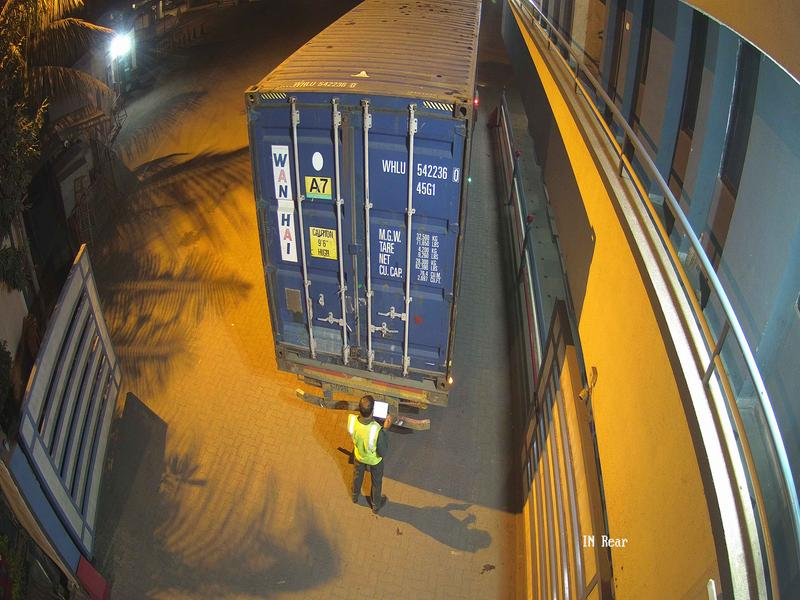container: (234, 76, 491, 401)
